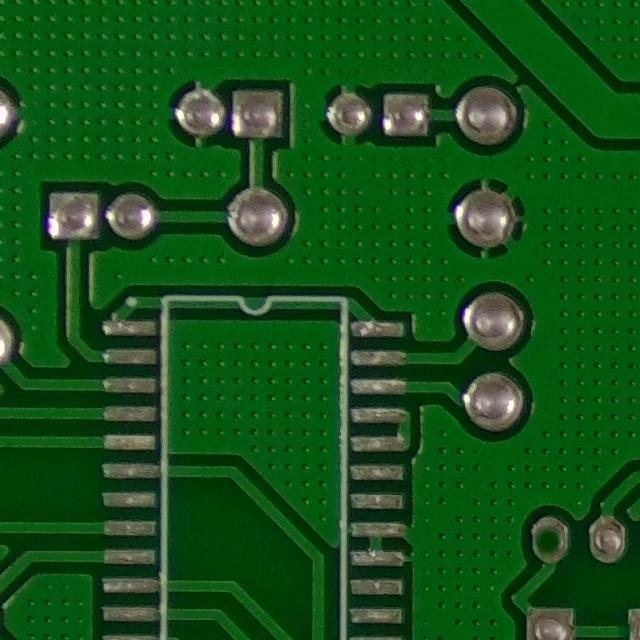missing_hole: (522, 507, 577, 572)
